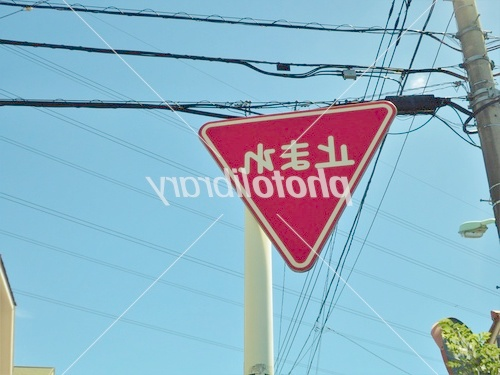Regulatory_sign_triangle: (189, 90, 407, 275)
